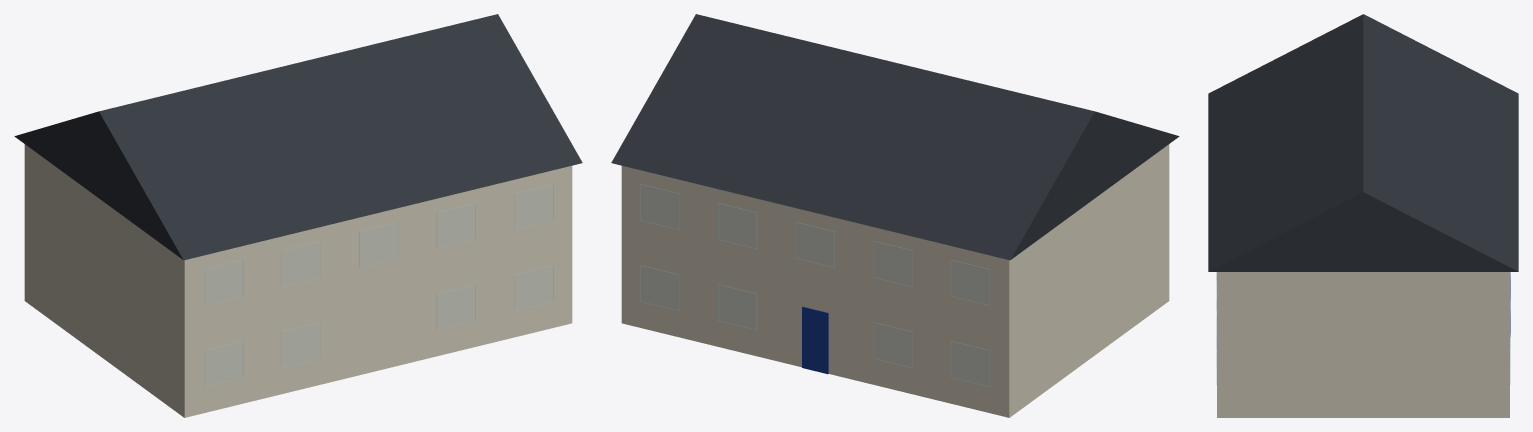
File: context.pub.glb
3 views of the same model, side by side, from view 1: azimuth 30°, elevation 25°; view 2: azimuth 150°, elevation 25°; view 3: azimuth 270°, elevation 25° (orthographic). The views are drawn at different scales.
Parts seen in each view (by area): view 1: walls__render, roof__slate, openings__glass; view 2: walls__render, roof__slate, openings__glass, openings__plastic_blue; view 3: roof__slate, walls__render.
Boxes of the visible parts, x1,y1,x2,y2 form: walls__render: [24, 144, 572, 417]; roof__slate: [14, 14, 582, 260]; openings__glass: [204, 184, 553, 386]; walls__render: [621, 144, 1169, 417]; roof__slate: [611, 14, 1179, 260]; openings__glass: [640, 184, 989, 386]; openings__plastic_blue: [802, 306, 828, 374]; roof__slate: [1208, 14, 1518, 271]; walls__render: [1217, 272, 1509, 417].
Bounding box in the file's own units: 14.4 × 8.6 × 10.6.
